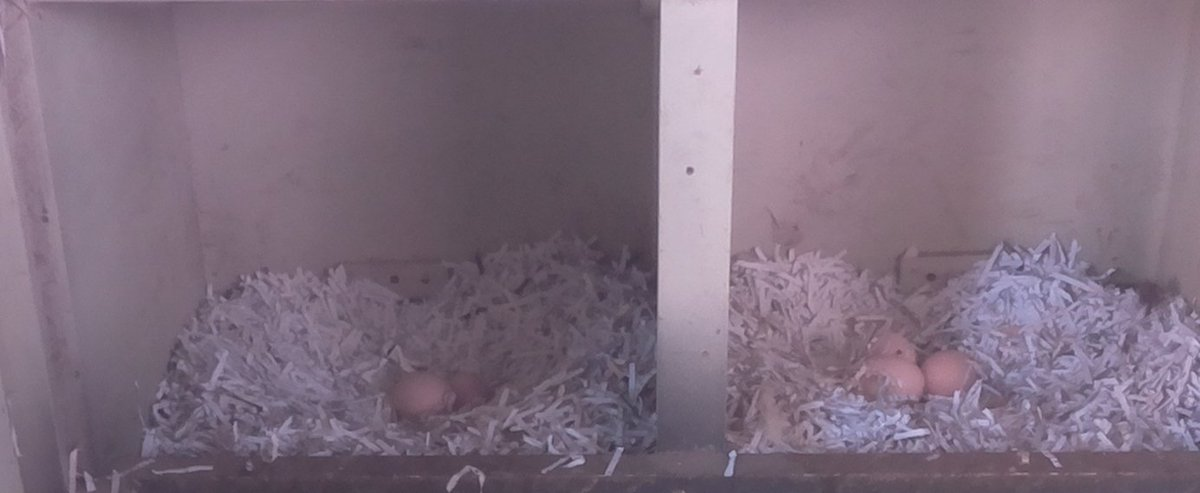egg: (849, 352, 927, 409), (920, 344, 980, 405), (386, 370, 455, 423), (851, 322, 921, 373), (445, 368, 491, 410)
